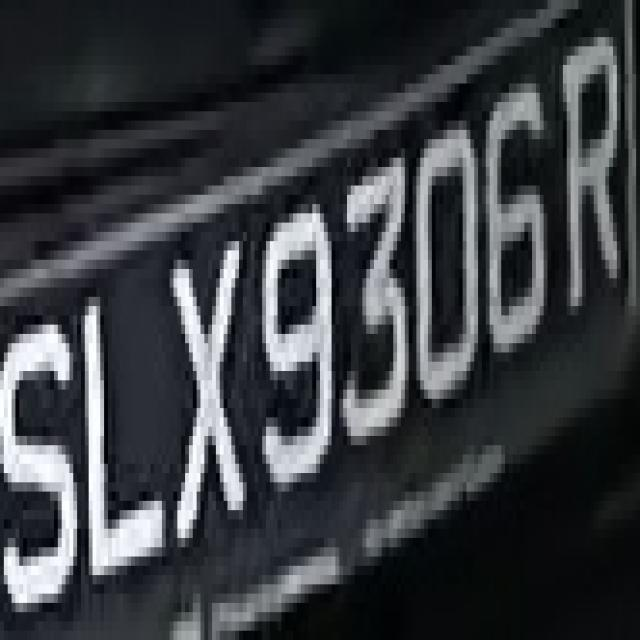0: (408, 130, 489, 427)
3: (336, 139, 412, 464)
6: (471, 65, 552, 371)
9: (258, 204, 339, 538)
L: (74, 269, 178, 594)
R: (544, 18, 636, 334)
S: (8, 260, 81, 630)
X: (166, 232, 250, 556)
